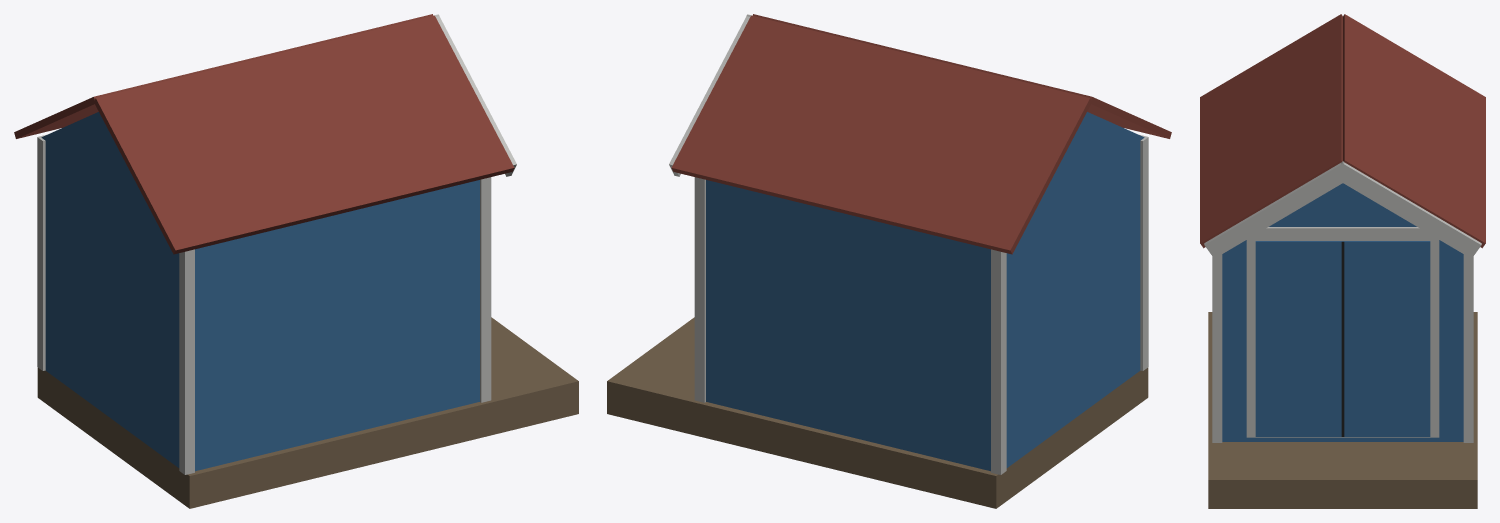
File: SM_Prop_coast_beachhut_0_LOD1.glb
The picture shows the model from 3 angles, left to right: view 1: azimuth 30°, elevation 25°; view 2: azimuth 150°, elevation 25°; view 3: azimuth 270°, elevation 25°; orthographic projection. The views are drawn at different scales.
Visible parts, largest first — view 1: SM_Prop_coast_beachhut_0_LOD1; view 2: SM_Prop_coast_beachhut_0_LOD1; view 3: SM_Prop_coast_beachhut_0_LOD1.
Boxes of the visible parts, x1,y1,x2,y2 form: SM_Prop_coast_beachhut_0_LOD1: (14, 14, 578, 508); SM_Prop_coast_beachhut_0_LOD1: (607, 14, 1171, 508); SM_Prop_coast_beachhut_0_LOD1: (1200, 14, 1485, 508).
Size of the model in its own units: 3.25 by 2.74 by 2.23.
